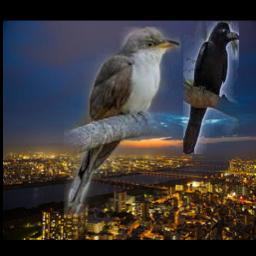Crow: (183, 22, 239, 155)
Cuckoo: (64, 27, 181, 217)
